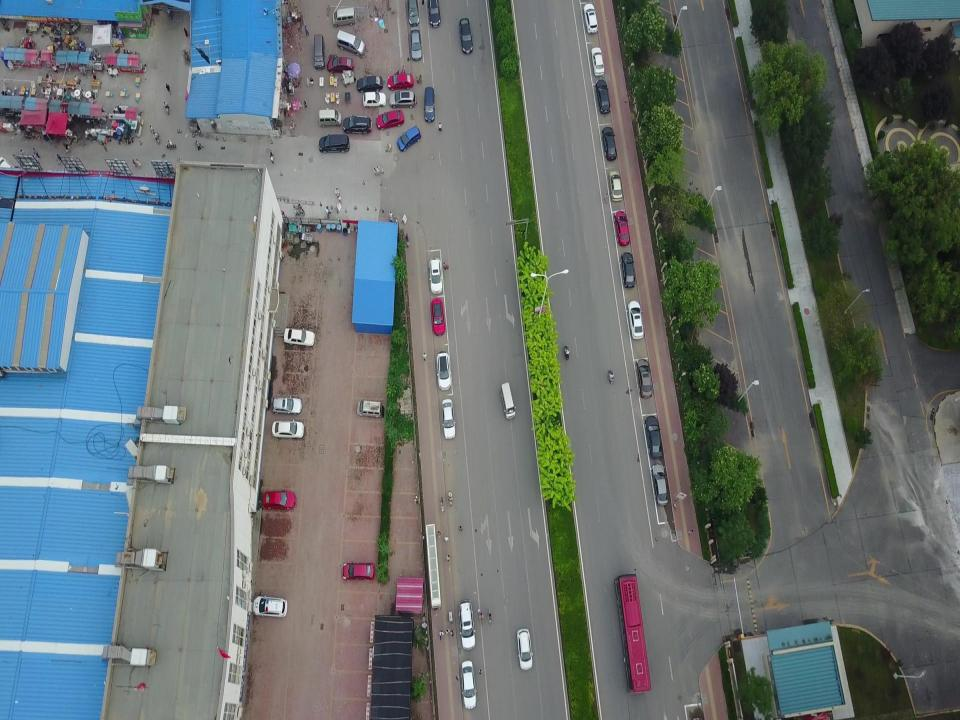bus: (614, 575, 650, 693)
car: (252, 595, 288, 619), (460, 661, 477, 710), (460, 599, 476, 651), (646, 414, 664, 460), (651, 463, 669, 507), (262, 489, 296, 511), (635, 359, 653, 399), (627, 300, 644, 340), (283, 327, 315, 348), (517, 628, 533, 670), (440, 399, 456, 441), (430, 296, 446, 337), (343, 561, 375, 581), (318, 136, 350, 156), (614, 211, 632, 246), (436, 352, 452, 391), (398, 124, 420, 152), (271, 420, 303, 439), (458, 17, 474, 54), (620, 252, 636, 288), (595, 78, 611, 114), (272, 396, 302, 415), (342, 115, 372, 134), (601, 127, 617, 162), (388, 91, 416, 110), (430, 257, 444, 294), (375, 112, 405, 129), (386, 72, 414, 90), (356, 77, 384, 95), (583, 3, 599, 34), (609, 169, 623, 203), (423, 86, 435, 123), (327, 57, 353, 74), (410, 28, 422, 62), (592, 48, 604, 78), (364, 93, 386, 109), (427, 0, 440, 27), (408, 0, 419, 25)
van: (336, 32, 366, 57), (501, 383, 516, 420), (357, 400, 381, 419), (332, 8, 356, 27), (314, 33, 326, 70)
